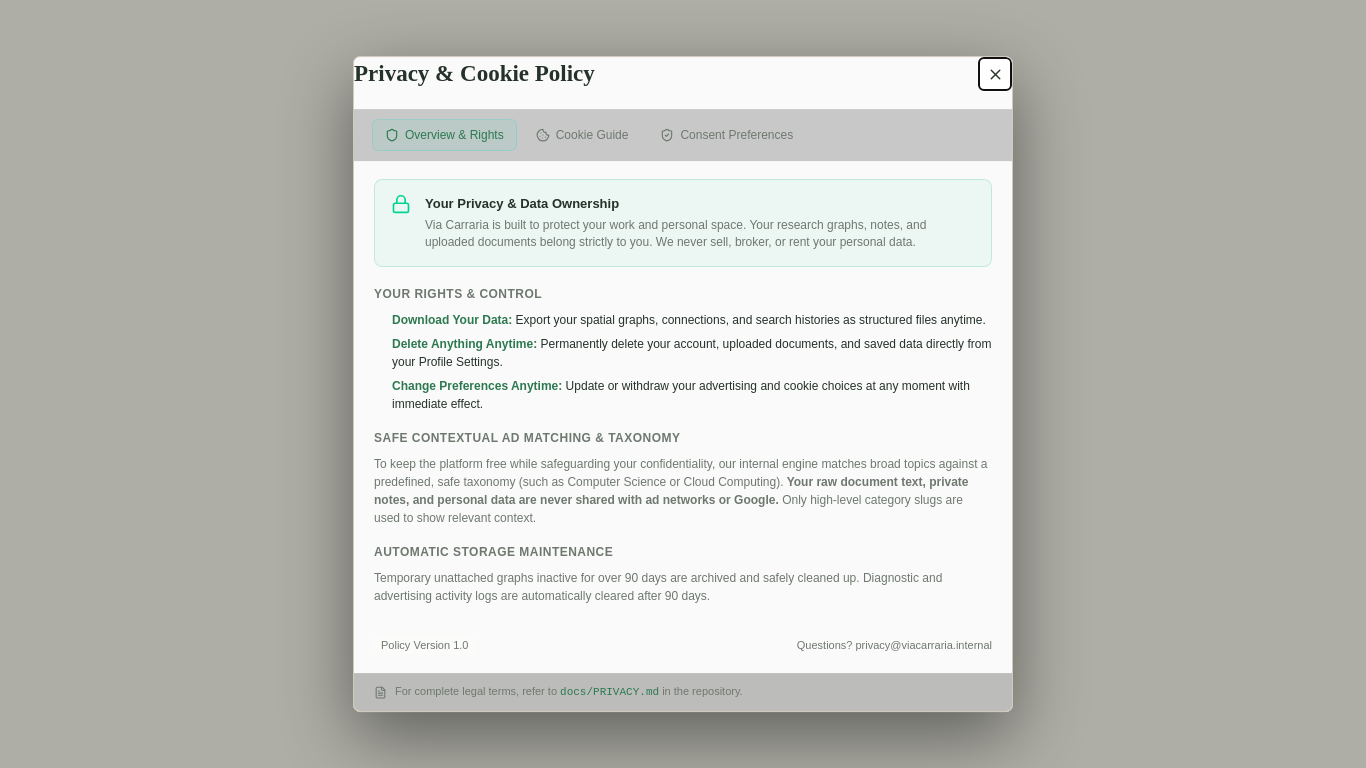
it: PrivacyPolicyDialog › switches to cookies guide tab and displays session cookie breakdown
Click the tab with test id "privacy-tab-cookies".
click(582, 135)  # box [523, 119, 641, 151]
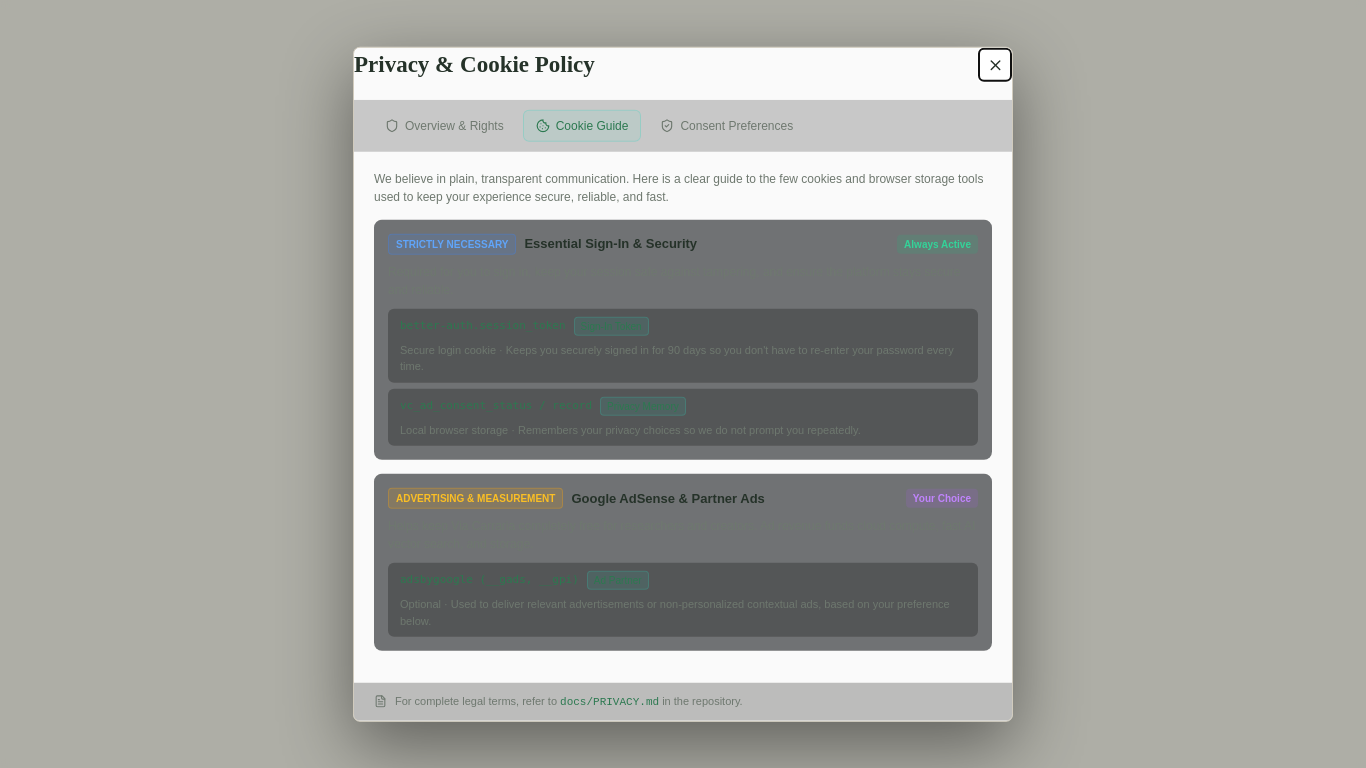
Check: the text "Strictly Necessary" is shown, box [388, 233, 516, 254]
Check: the text "better-auth.session_token" is shown, box [400, 318, 566, 334]
Check: the text "Sign-In Token" is shown, box [574, 316, 649, 335]
